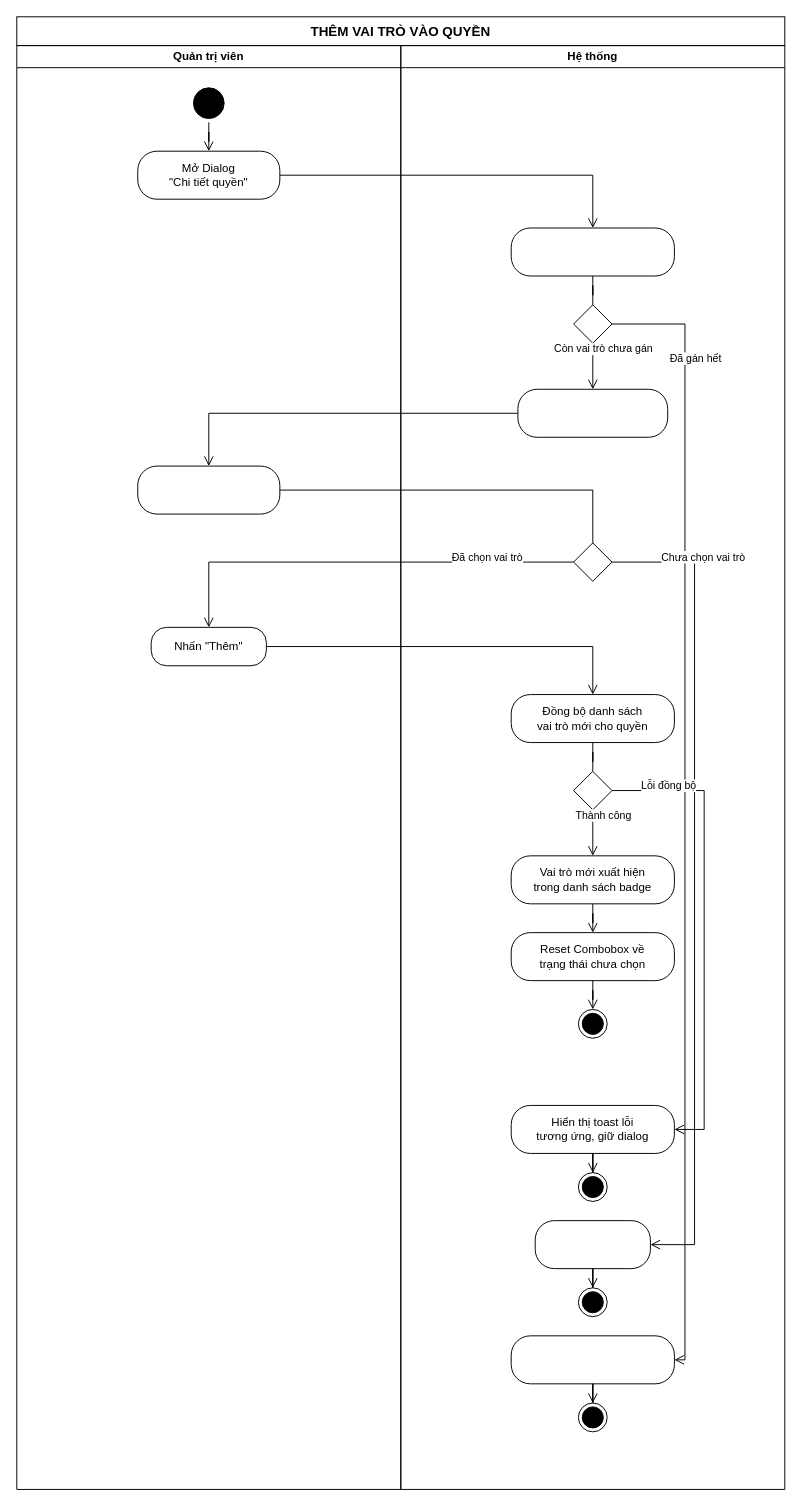
Some shapes in this 802 by 1506 pixel diagram are drawn without their labels. The shapes that lost their labels are listed below. From the top down, each one's centre as x and y in pixels, then its label:
the point at 592,251: Tải danh sách vai trò chưa sở hữu quyền
the point at 592,412: Hiển thị Combobox "Thêm vai trò..."
the point at 208,489: Chọn một vai trò từ Combobox
the point at 592,1244: Vô hiệu hoá nút "Thêm"
the point at 592,1359: Hiển thị "Tất cả vai trò đã được gán", vô hiệu hoá nút "Thêm"
